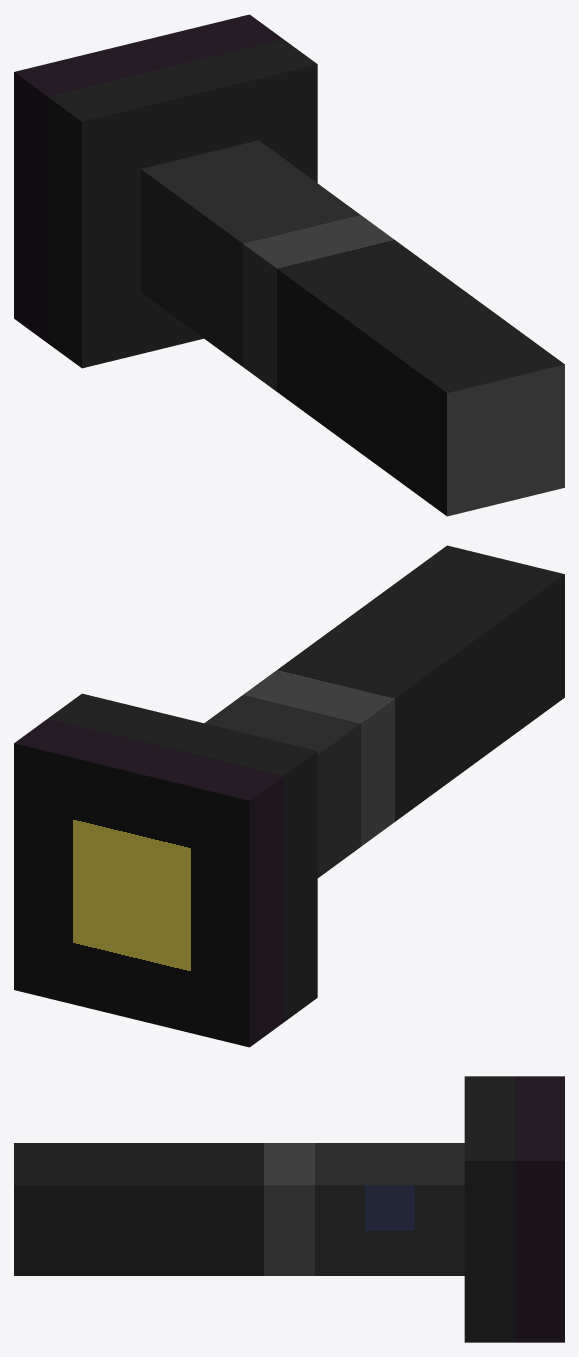
The model's file is Flashlight.fbx.
3 renders of one model, top to bottom at view 1: azimuth 30°, elevation 25°; view 2: azimuth 150°, elevation 25°; view 3: azimuth 270°, elevation 25°, orthographic. The views are drawn at different scales.
Visible parts, largest first — view 1: Handle, Tip; view 2: Tip, Handle; view 3: Handle, Tip.
Part boxes in pixels (box(x1,y1,x2,y2)): Handle: box(141, 140, 564, 516); Tip: box(14, 14, 317, 368); Tip: box(14, 693, 317, 1047); Handle: box(204, 545, 564, 877); Handle: box(14, 1143, 464, 1275); Tip: box(464, 1076, 564, 1342).
Bounding box in the file's own units: 25 × 25 × 68.75.
1 material, 1 textured.
